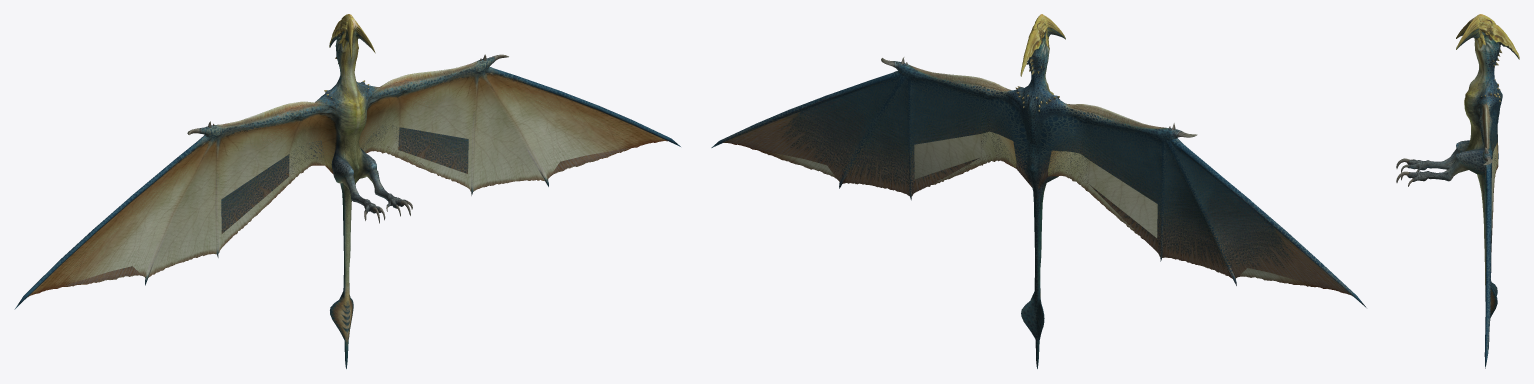
File: ems050_00.obj
3 views of the same model, side by side, from view 1: azimuth 30°, elevation 25°; view 2: azimuth 150°, elevation 25°; view 3: azimuth 270°, elevation 25° (orthographic). The views are drawn at different scales.
Visible parts, largest first — view 1: ems050_00_003_LOD_1, ems050_00_001_LOD_1, ems050_00_002_LOD_1; view 2: ems050_00_002_LOD_1, ems050_00_001_LOD_1, ems050_00_003_LOD_1; view 3: ems050_00_001_LOD_1, ems050_00_002_LOD_1, ems050_00_003_LOD_1.
Part boxes in pixels (x1,y1,x2,y2): ems050_00_003_LOD_1: (28, 70, 667, 296); ems050_00_001_LOD_1: (14, 14, 680, 368); ems050_00_002_LOD_1: (64, 125, 636, 285); ems050_00_002_LOD_1: (724, 74, 1351, 295); ems050_00_001_LOD_1: (711, 14, 1366, 368); ems050_00_003_LOD_1: (724, 131, 1352, 296); ems050_00_001_LOD_1: (1396, 14, 1519, 368); ems050_00_002_LOD_1: (1490, 109, 1498, 251); ems050_00_003_LOD_1: (1483, 142, 1498, 242).
Size of the model in its own units: 1282 by 658 by 219.
